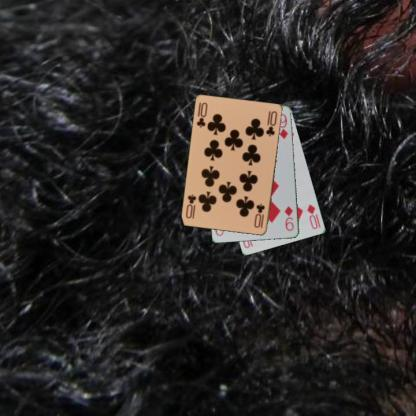10c: (194, 100, 209, 129), (252, 201, 266, 230)
10d: (304, 202, 322, 231)
9d: (282, 204, 296, 233)
